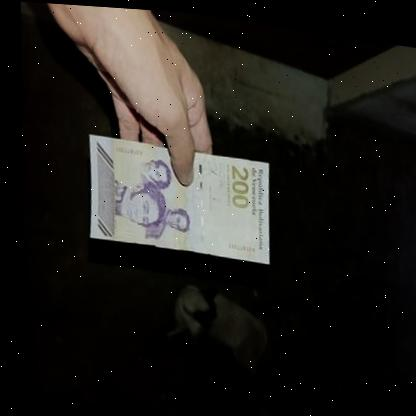two_hundred-front-vef: (74, 130, 275, 263)
